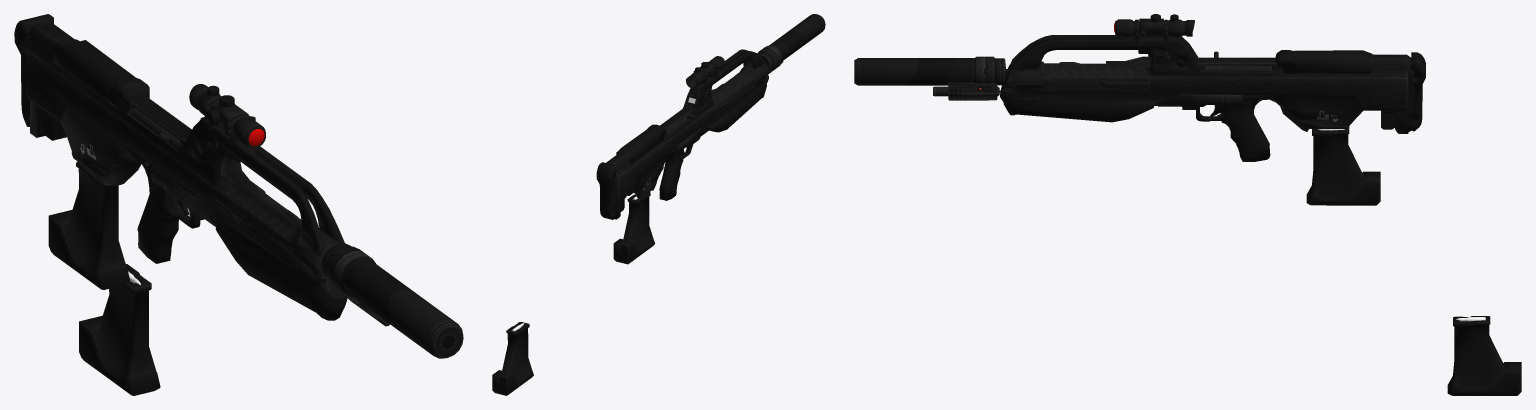
Rendered from XBR55_1stP_Rigged.fbx.
The picture shows the model from 3 angles, left to right: view 1: azimuth 30°, elevation 25°; view 2: azimuth 150°, elevation 25°; view 3: azimuth 270°, elevation 25°; orthographic projection. The views are drawn at different scales.
Visible parts, largest first — view 1: MainBody.001, Magazine2, Magazine1, Charging_Handle; view 2: MainBody.001, Magazine2, Magazine1; view 3: MainBody.001, Magazine2, Magazine1.
Part boxes in pixels (box(x1,y1,x2,y2)): MainBody.001: box(14, 14, 463, 358); Magazine2: box(79, 264, 160, 395); Magazine1: box(48, 161, 130, 289); Charging_Handle: box(130, 108, 180, 148); MainBody.001: box(596, 14, 825, 219); Magazine2: box(492, 322, 533, 395); Magazine1: box(613, 192, 654, 264); MainBody.001: box(854, 14, 1425, 161); Magazine2: box(1447, 316, 1521, 395); Magazine1: box(1306, 127, 1380, 205).
Size of the model in its own units: 24.26 by 65.49 by 119.
